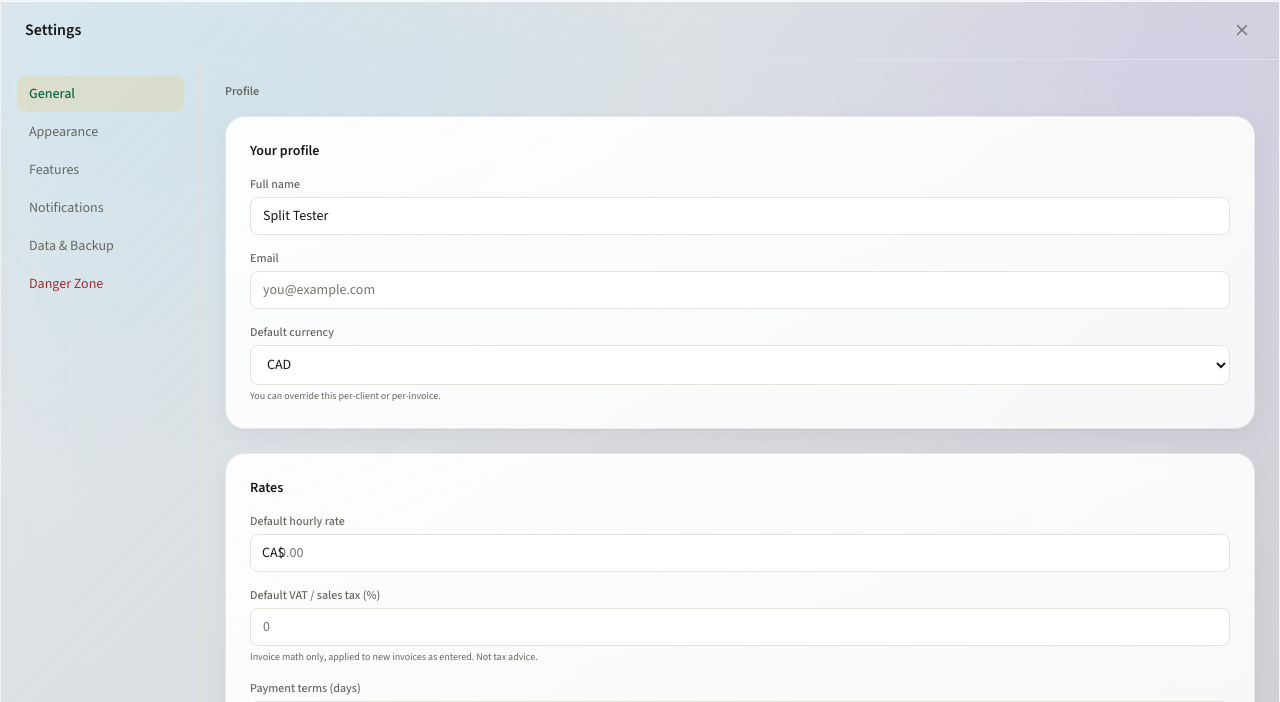
it: Settings sections survive the split › data section offers export and import
The width and height of the screenshot is (1280, 702).
Click the button "Data & Backup" at (100, 246), box [17, 228, 184, 264]
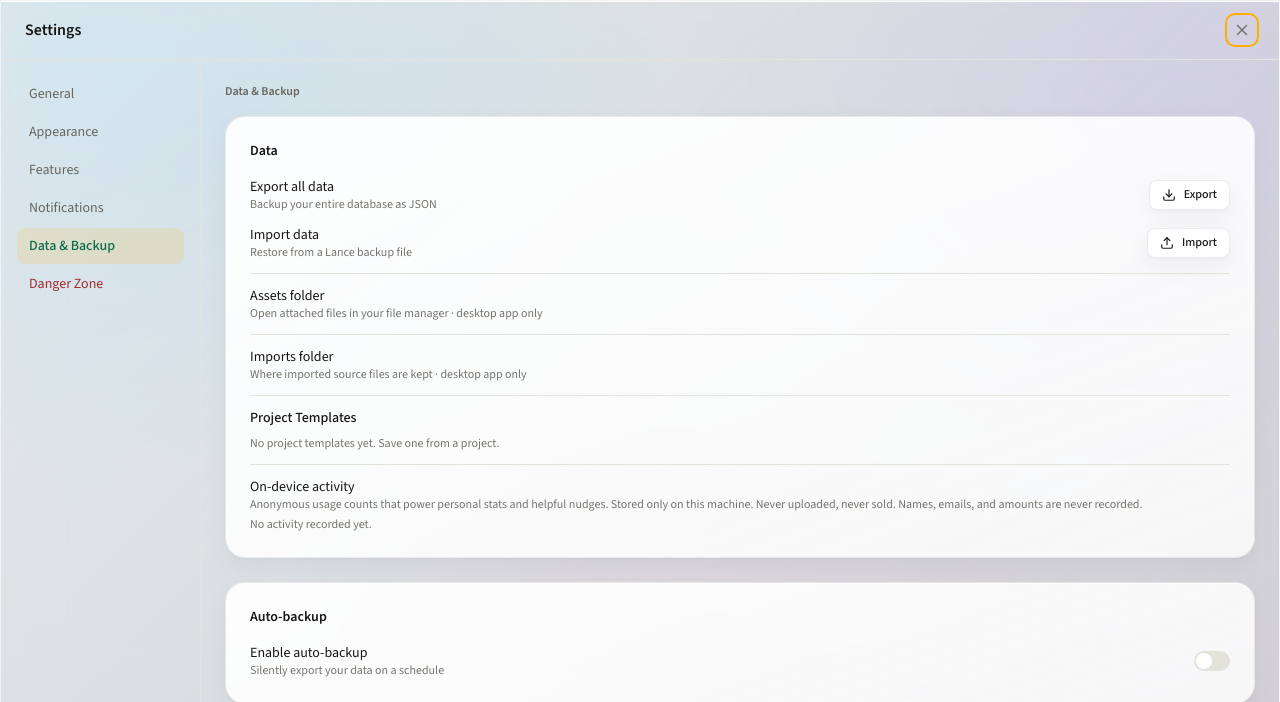
Expected: the text "Export all data" is shown, [250, 177, 334, 197]
Expected: the text "Import data" is shown, [250, 225, 319, 245]
